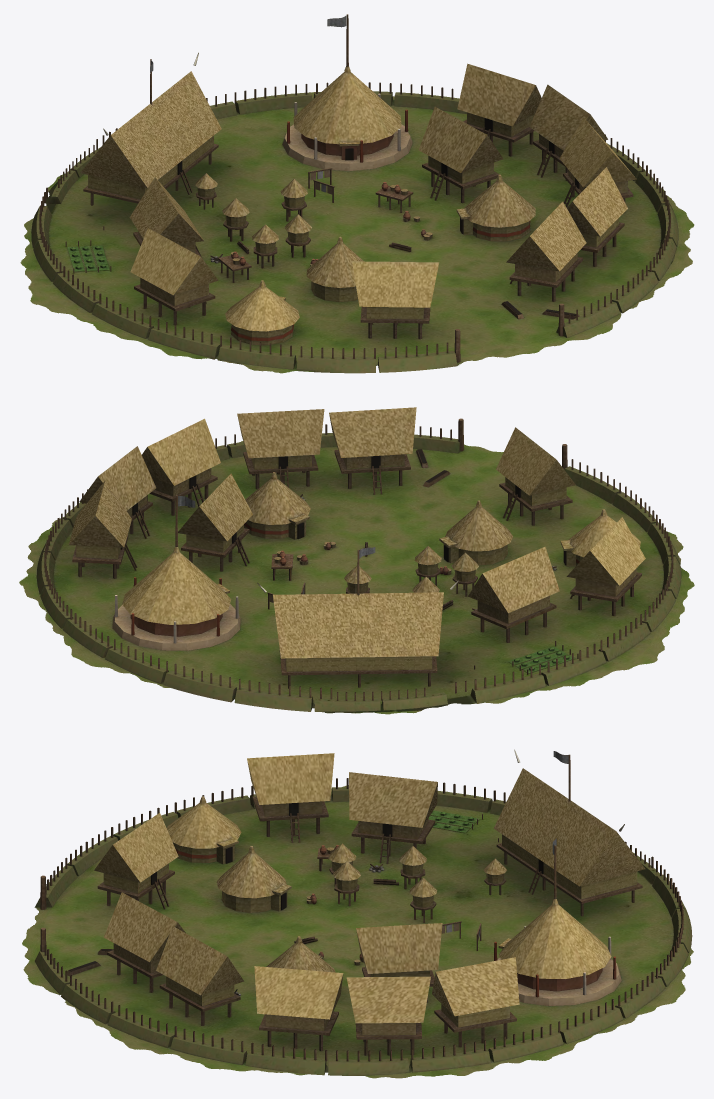
Rendered from stone-town-medium-b-monsoon.glb.
The picture shows the model from 3 angles, top to bottom: view 1: azimuth 30°, elevation 25°; view 2: azimuth 150°, elevation 25°; view 3: azimuth 270°, elevation 25°; orthographic projection. The views are drawn at different scales.
Visible parts, largest first — view 1: LOD0; view 2: LOD0; view 3: LOD0.
Part boxes in pixels (box(x1,y1,x2,y2)): LOD0: box(20, 14, 694, 373); LOD0: box(19, 407, 694, 714); LOD0: box(22, 749, 693, 1078).
Size of what is drawn, in the model's own units: 6.04 by 1.25 by 5.74.
3 materials, 3 textured.
